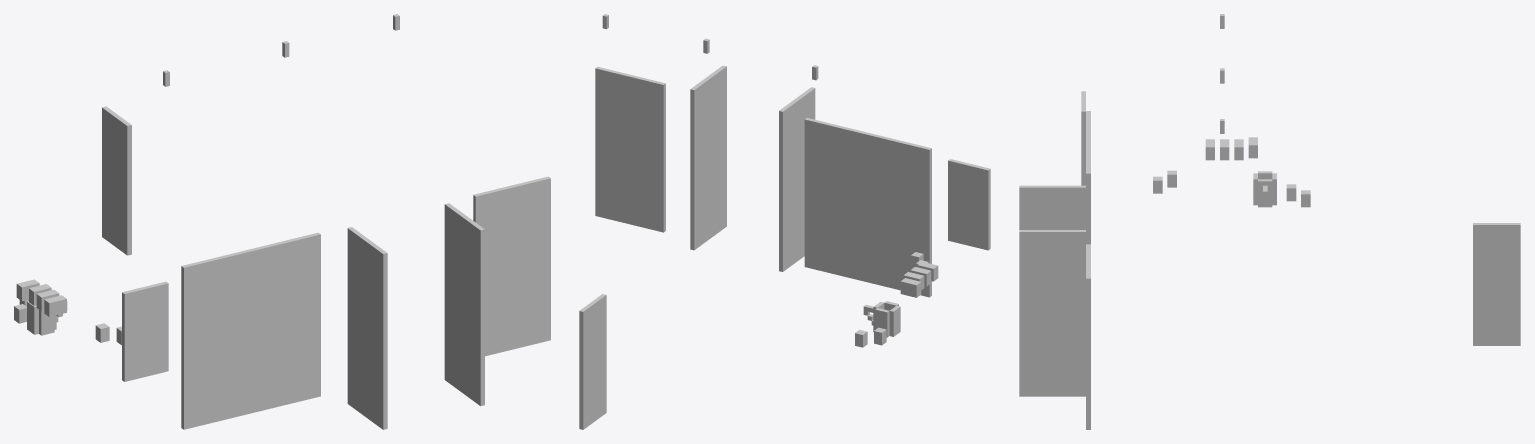
Rendered from glass white.obj.
3 views of the same model, side by side, from view 1: azimuth 30°, elevation 25°; view 2: azimuth 150°, elevation 25°; view 3: azimuth 270°, elevation 25° (orthographic). The views are drawn at different scales.
Visible parts, largest first — view 1: glass white; view 2: glass white; view 3: glass white.
Part boxes in pixels (box(x1,y1,x2,y2)): glass white: box(14, 14, 550, 429); glass white: box(579, 14, 990, 429); glass white: box(1019, 14, 1520, 429).
Bounding box in the file's own units: 100 × 66 × 105.
1 material, 1 textured.
